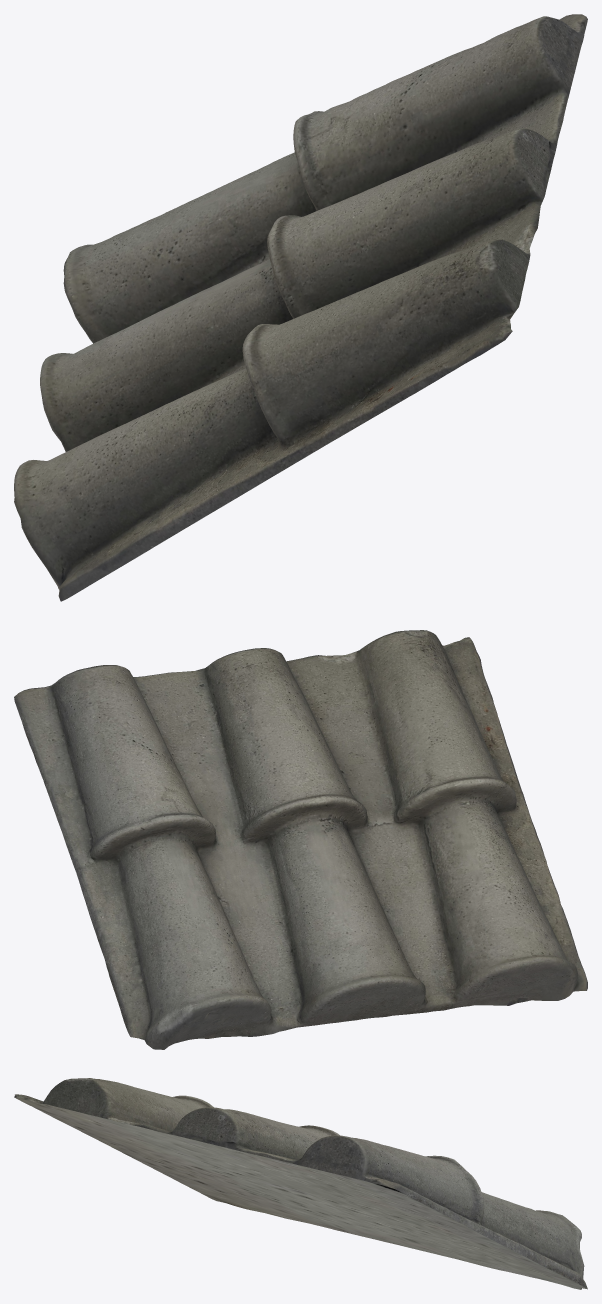
The model's file is Retopo_3DModel_mesh.152.glb.
The picture shows the model from 3 angles, top to bottom: view 1: azimuth 30°, elevation 25°; view 2: azimuth 150°, elevation 25°; view 3: azimuth 270°, elevation 25°; orthographic projection. The views are drawn at different scales.
Parts seen in each view (by area): view 1: Retopo_3DModel_mesh.152; view 2: Retopo_3DModel_mesh.152; view 3: Retopo_3DModel_mesh.152.
Boxes of the visible parts, <box> form: Retopo_3DModel_mesh.152: <box>14,14,587,601</box>; Retopo_3DModel_mesh.152: <box>14,630,587,1049</box>; Retopo_3DModel_mesh.152: <box>14,1078,587,1289</box>.
Size of the model in its own units: 5 by 2.69 by 5.4.
Materials: 1 (1 with a texture image).
